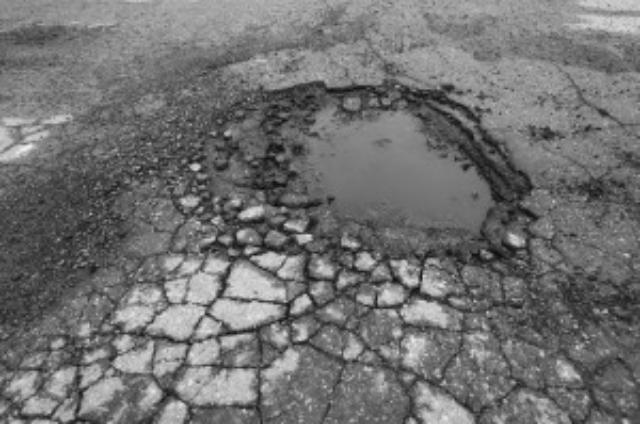Pothole: (213, 56, 555, 282)
